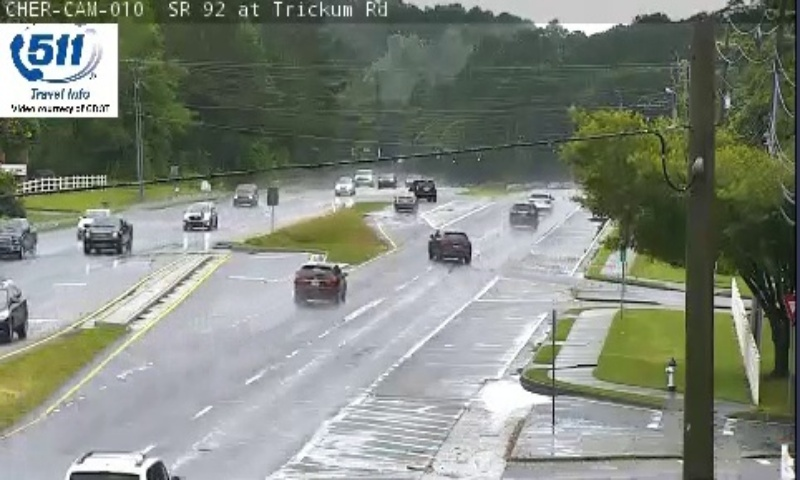car: (295, 263, 345, 301), (434, 229, 469, 261), (509, 202, 536, 227)
